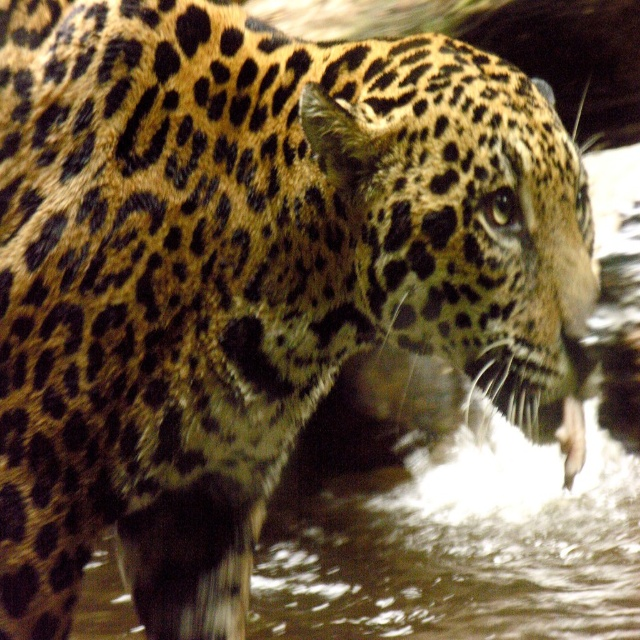Jaguar: (0, 0, 603, 639)
